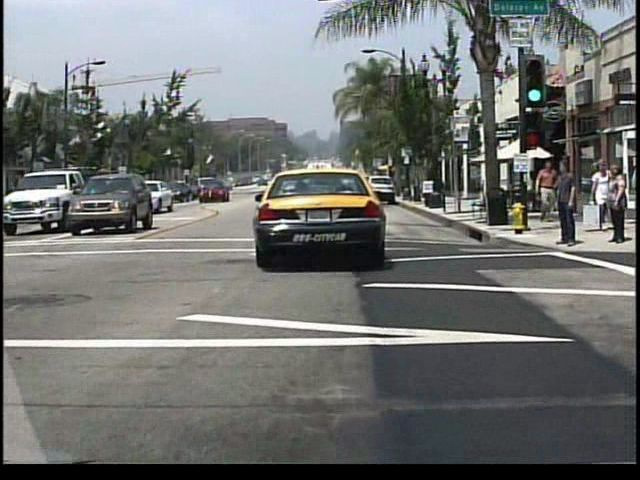person: (555, 156, 577, 246), (592, 158, 611, 232), (538, 163, 559, 219)
